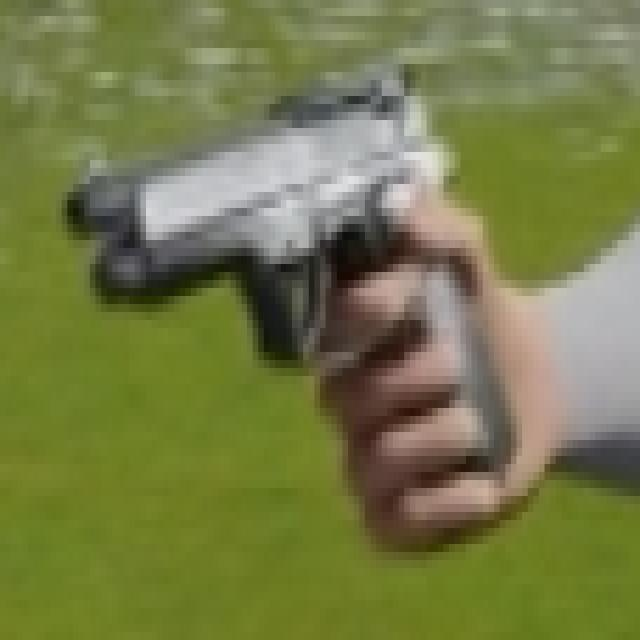Pistol: (61, 66, 526, 490)
